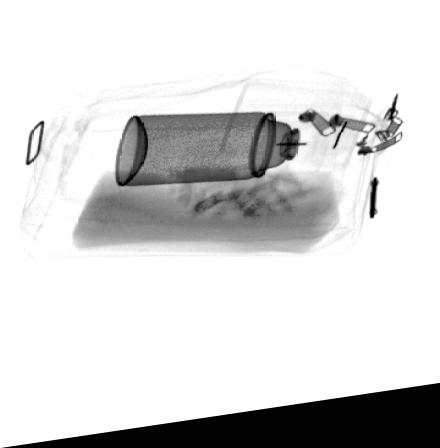Sprayer: (114, 119, 332, 192)
